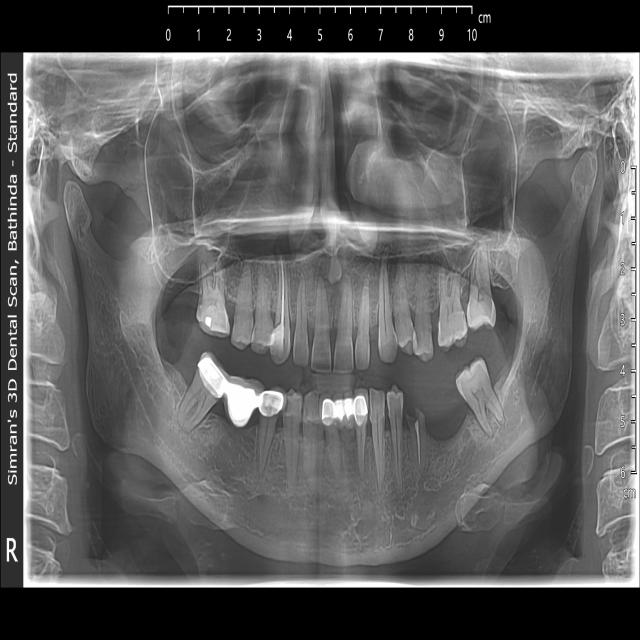Crown: (225, 381, 257, 427), (199, 357, 227, 400), (260, 392, 284, 417), (354, 395, 368, 424), (343, 397, 354, 428), (334, 398, 346, 426), (323, 400, 334, 427)
Filling: (269, 321, 285, 359), (205, 315, 211, 327)
Mandibular Canal: (431, 268, 560, 504), (114, 319, 240, 493)
Missing teeth: (424, 384, 474, 441)
Periapical lesion: (376, 231, 397, 282), (274, 229, 298, 269)
Root Canal Treatment: (280, 257, 284, 325)
Root Piece: (407, 407, 424, 475)
maxillary sinus: (144, 64, 297, 290), (375, 64, 519, 267)
